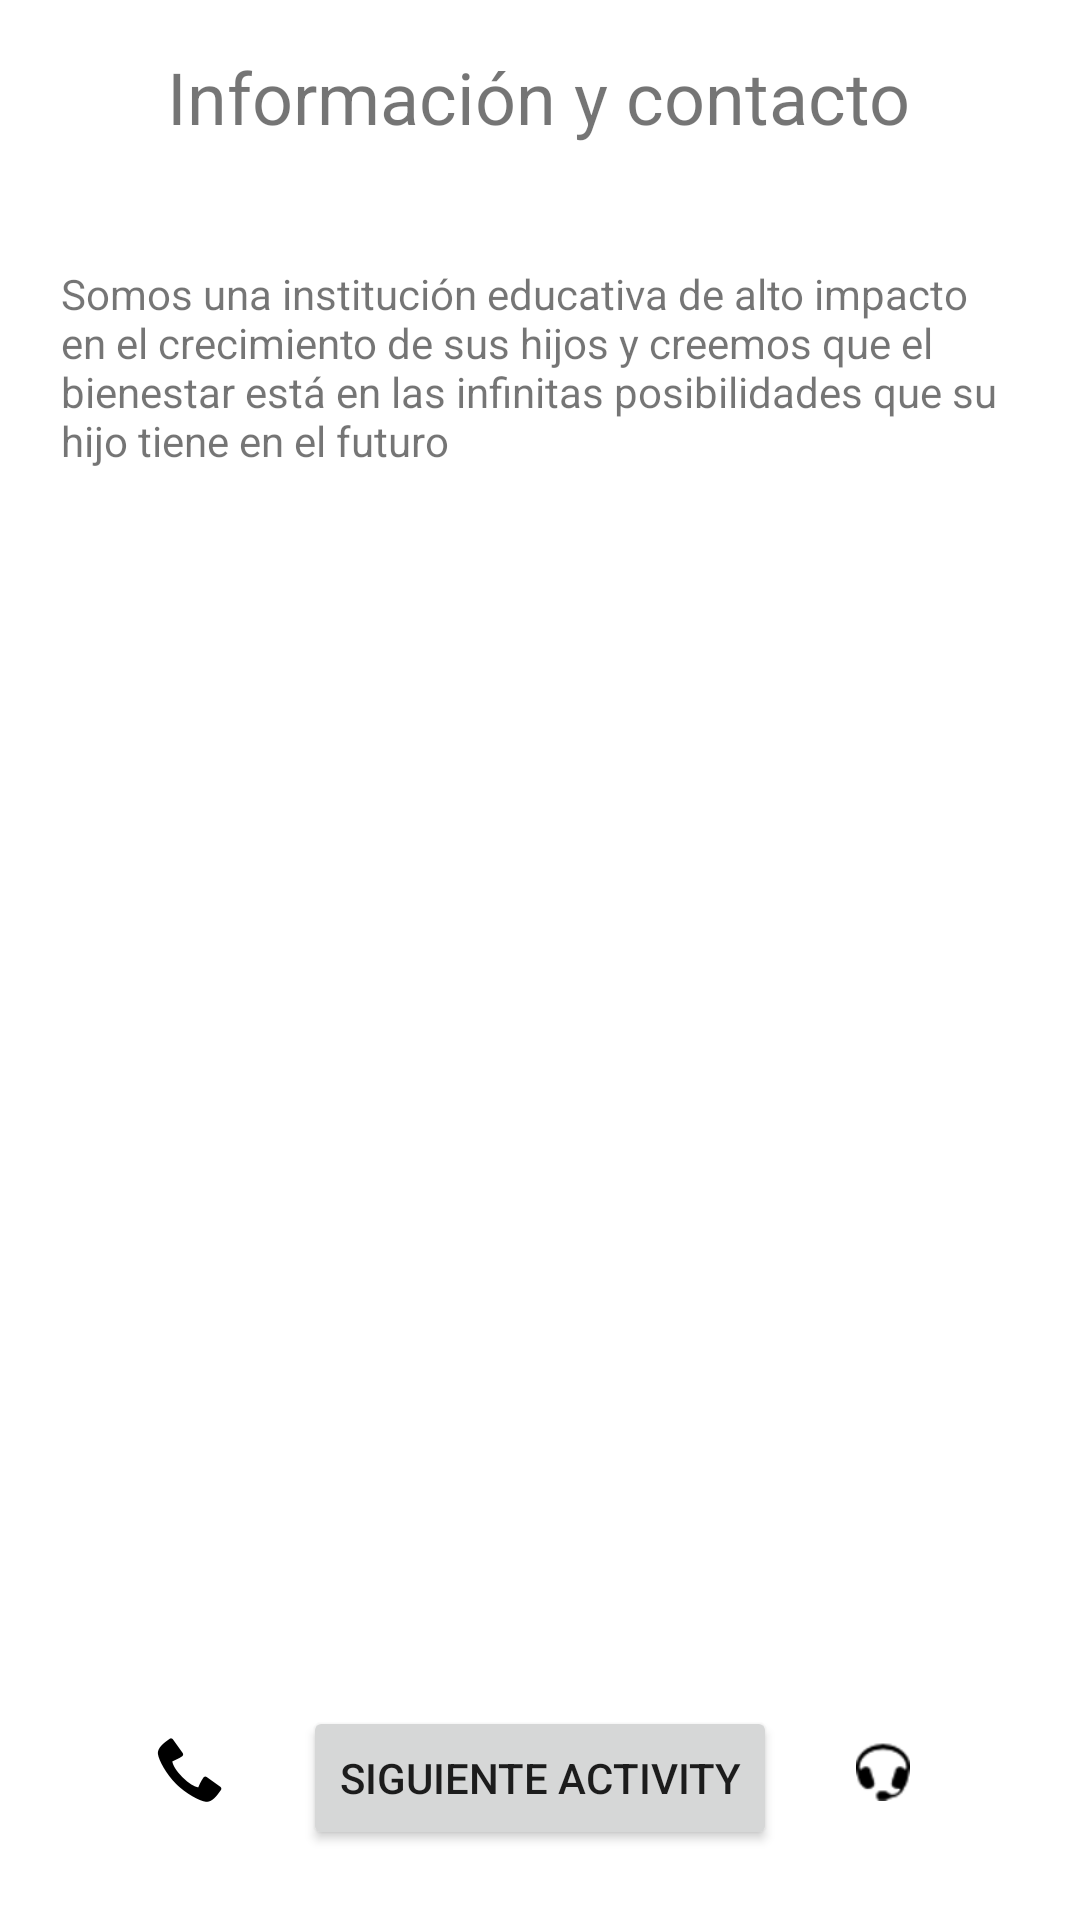

Icon click points for this 1080*1920 phone screenshot, format [x,y]:
headset: [883,1772]
phone call: [190,1770]
